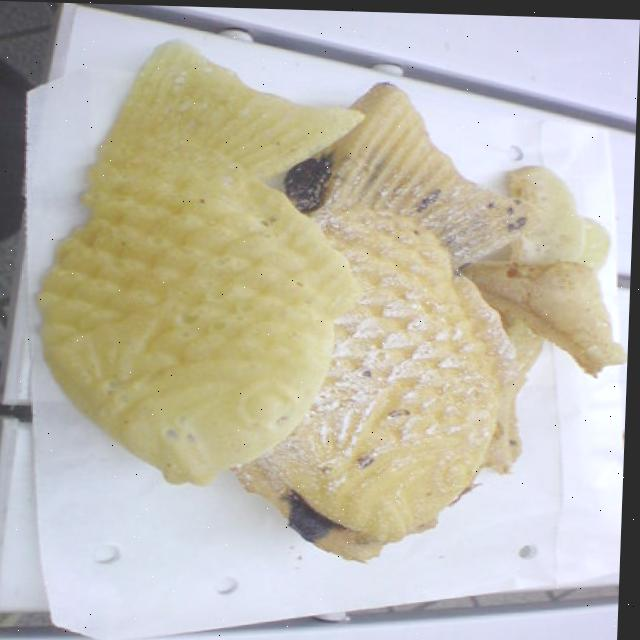熟制海鲜: (0, 36, 639, 571)
